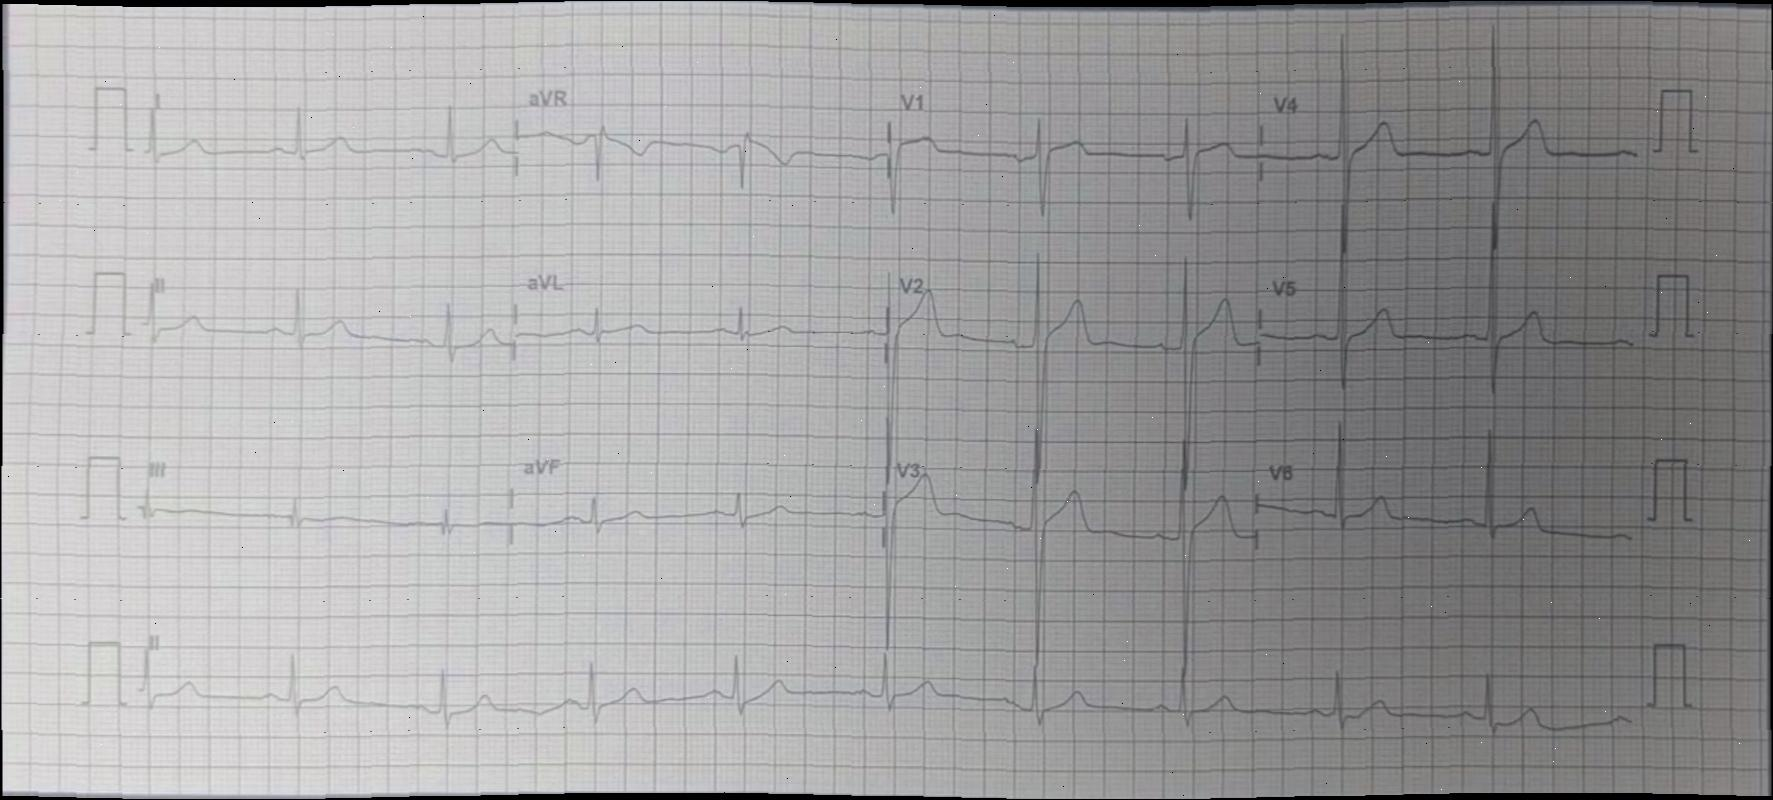Lead_I: (134, 75, 515, 195)
Lead_II: (134, 258, 514, 392)
Lead_III: (130, 444, 512, 572)
Lead_V1: (888, 70, 1260, 232)
Lead_V2: (885, 253, 1260, 485)
Lead_V3: (885, 414, 1257, 684)
Lead_V4: (1261, 14, 1640, 258)
Lead_V5: (1260, 188, 1640, 408)
Lead_V6: (127, 615, 1638, 763), (1260, 397, 1641, 588)
Lead_aVF: (510, 443, 881, 578)
Lead_aVL: (520, 253, 886, 395)
Lead_aVR: (516, 69, 884, 220)
